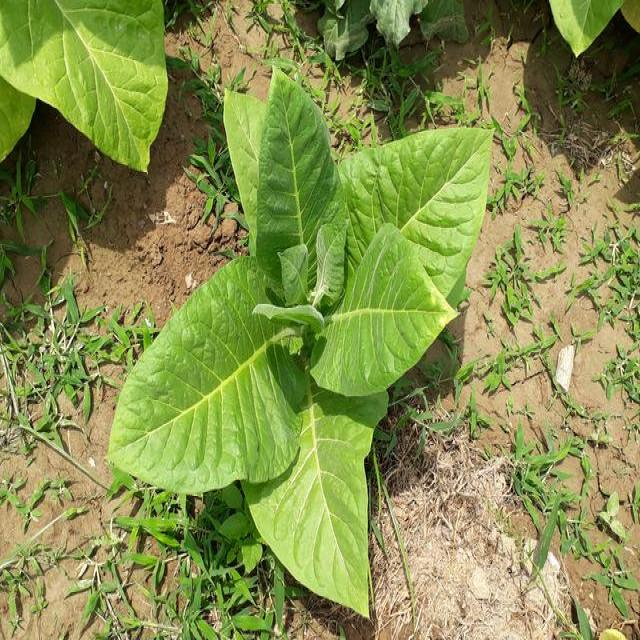crop: (122, 96, 494, 606), (0, 0, 164, 178), (541, 0, 640, 59)
